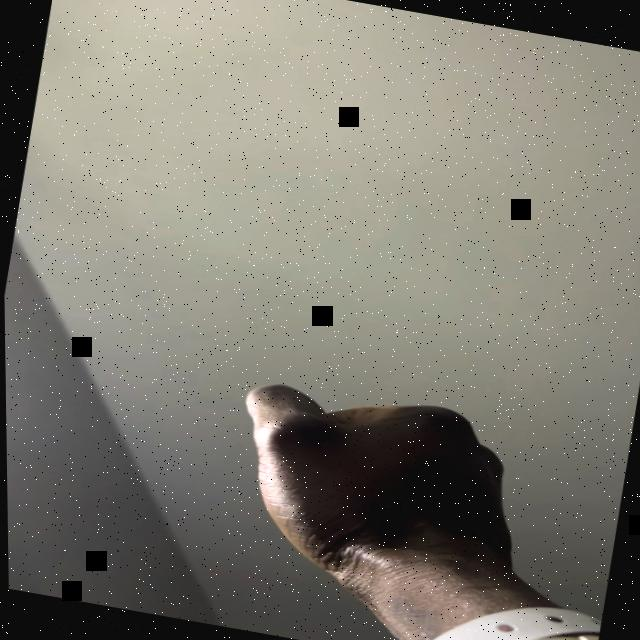Rock: (214, 370, 535, 606)
